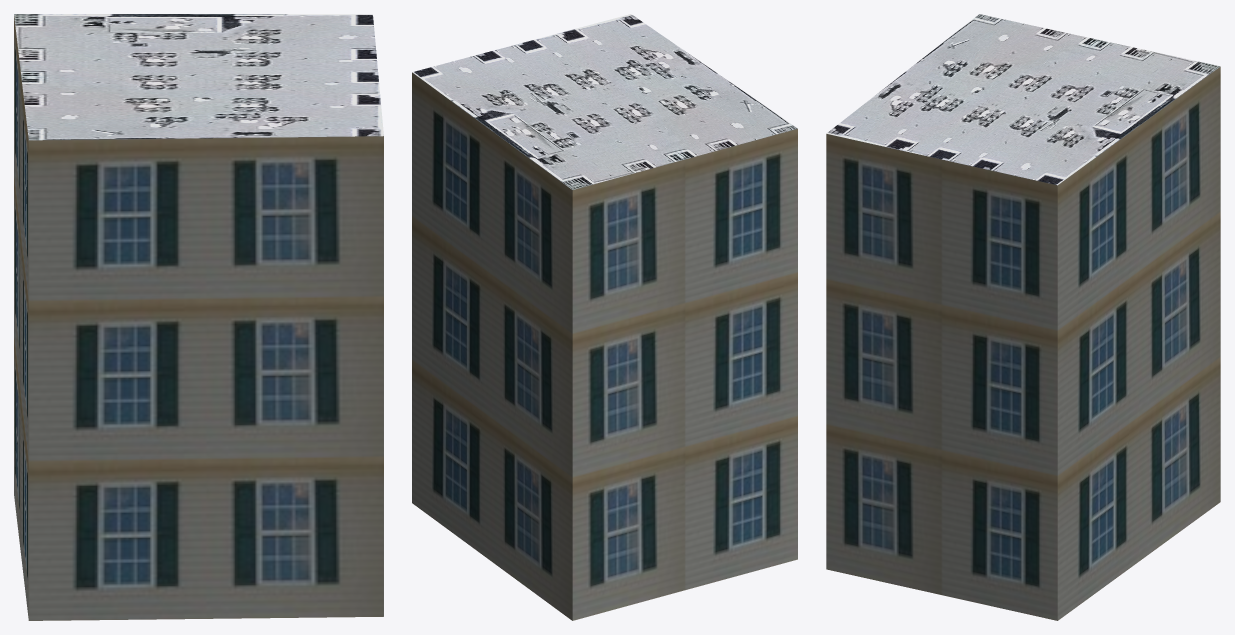
The model's file is ResTex__3998.fbx.
The picture shows the model from 3 angles, left to right: view 1: azimuth 30°, elevation 25°; view 2: azimuth 150°, elevation 25°; view 3: azimuth 270°, elevation 25°; orthographic projection. The views are drawn at different scales.
Visible parts, largest first — view 1: CityEngineMaterial_7_m, CityEngineMaterial_15_m; view 2: CityEngineMaterial_7_m, CityEngineMaterial_15_m; view 3: CityEngineMaterial_7_m, CityEngineMaterial_15_m.
Boxes of the visible parts, x1,y1,x2,y2 form: CityEngineMaterial_7_m: (14, 15, 383, 620); CityEngineMaterial_15_m: (14, 14, 383, 140); CityEngineMaterial_7_m: (412, 72, 797, 620); CityEngineMaterial_15_m: (412, 14, 797, 189); CityEngineMaterial_7_m: (826, 66, 1220, 620); CityEngineMaterial_15_m: (826, 14, 1220, 185).
Size of the model in its own units: 7.59 by 9 by 7.39.
2 materials, 2 textured.
